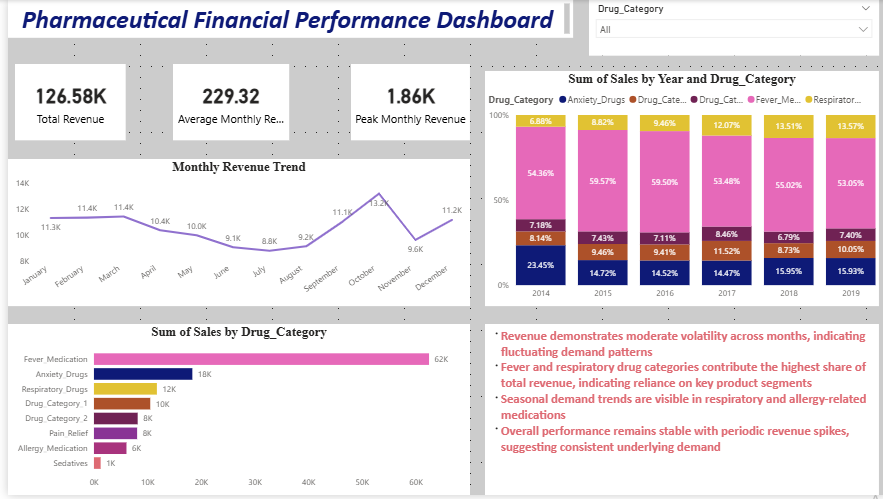

What the dashboard file says about the page in this screenshot:
{"tool":"powerbi","page":{"name":"Page 1","canvas":[1280,720],"ordinal":0},"visuals":[{"type":"card","fields":{"Values":["Sum(salesmonthly.Sales)"]},"box":[10.2,93.1,161.5,110.5],"z":0},{"type":"card","fields":{"Values":["Avg(salesmonthly.Sales)"]},"box":[240,93.1,168.7,110.5],"z":1000},{"type":"card","fields":{"Values":["Max(salesmonthly.Sales)"]},"box":[498.9,93.1,173.1,110.5],"z":2000},{"type":"lineChart","title":"Monthly Revenue Trend","fields":{"Category":["salesmonthly.Date.Variation.Date Hierarchy.Month"],"Y":["Sum(salesmonthly.Sales)"]},"box":[0,231.3,672,213.8],"z":3000},{"type":"clusteredBarChart","fields":{"Category":["salesmonthly.Drug_Category"],"Y":["Sum(salesmonthly.Sales)"]},"box":[0,471.3,672,248.7],"z":4000},{"type":"hundredPercentStackedColumnChart","fields":{"Category":["salesmonthly.Date.Variation.Date Hierarchy.Year","salesmonthly.Date.Variation.Date Hierarchy.Quarter","salesmonthly.Date.Variation.Date Hierarchy.Month","salesmonthly.Date.Variation.Date Hierarchy.Day"],"Series":["salesmonthly.Drug_Category"],"Y":["Sum(salesmonthly.Sales)"]},"box":[693.8,103.3,573.1,341.8],"z":4001},{"type":"textbox","box":[0,0,821.8,55.3],"z":4002},{"type":"textbox","box":[694,471,573,249],"z":4003},{"type":"slicer","fields":{"Values":["salesmonthly.Drug_Category"]},"box":[845.1,0,421.8,81.5],"z":4004}]}

Visuals, with their boxes in screenshot pixels (x1, y1, x2, y2), scaled from the page's 1280x720 canvas onto the 883x499 screenshot:
card - Sum(salesmonthly.Sales): select_region(7, 65, 118, 141)
card - Avg(salesmonthly.Sales): select_region(166, 65, 282, 141)
card - Max(salesmonthly.Sales): select_region(344, 65, 464, 141)
"Monthly Revenue Trend" lineChart: select_region(0, 160, 464, 308)
clusteredBarChart - salesmonthly.Drug_Category x Sum(salesmonthly.Sales): select_region(0, 327, 464, 498)
hundredPercentStackedColumnChart - salesmonthly.Date.Variation.Date Hierarchy.Year x salesmonthly.Date.Variation.Date Hierarchy.Quarter: select_region(479, 72, 874, 308)
textbox: select_region(0, 0, 567, 38)
textbox: select_region(479, 326, 874, 498)
slicer - salesmonthly.Drug_Category: select_region(583, 0, 874, 56)
